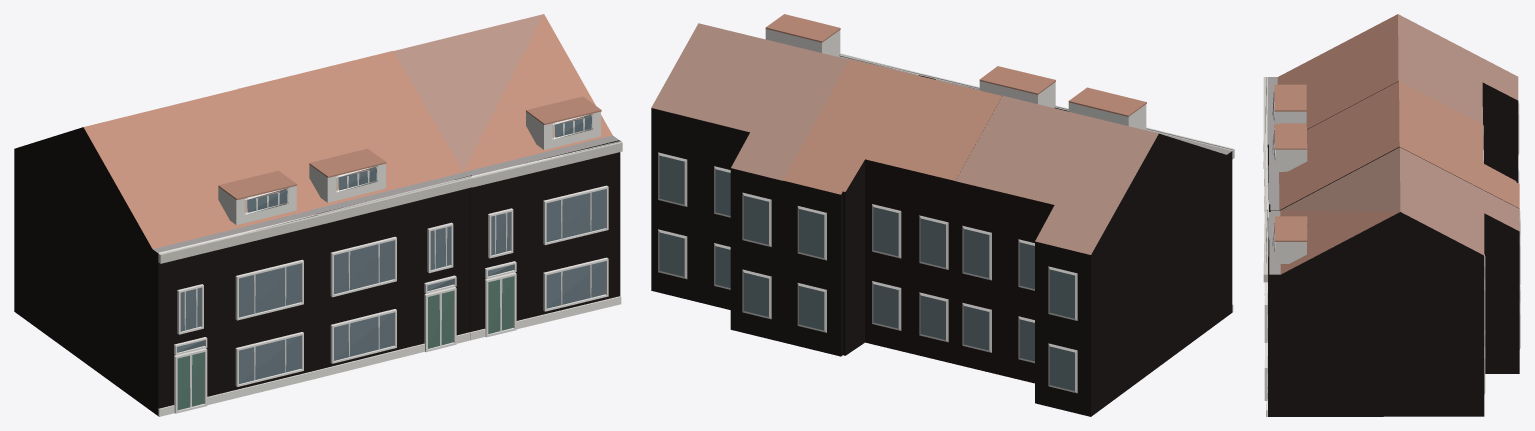
Rendered from chunk-face-meeuwenplein-9-19-r1.lod2.glb.
3 views of the same model, side by side, from view 1: azimuth 30°, elevation 25°; view 2: azimuth 150°, elevation 25°; view 3: azimuth 270°, elevation 25° (orthographic). The views are drawn at different scales.
Parts seen in each view (by area): view 1: lod2; view 2: lod2; view 3: lod2.
Part boxes in pixels (bbox=[...]): lod2: bbox=[14, 14, 622, 416]; lod2: bbox=[651, 14, 1234, 416]; lod2: bbox=[1263, 14, 1520, 416].
Size of the model in its own units: 19.24 by 9.33 by 10.57.
